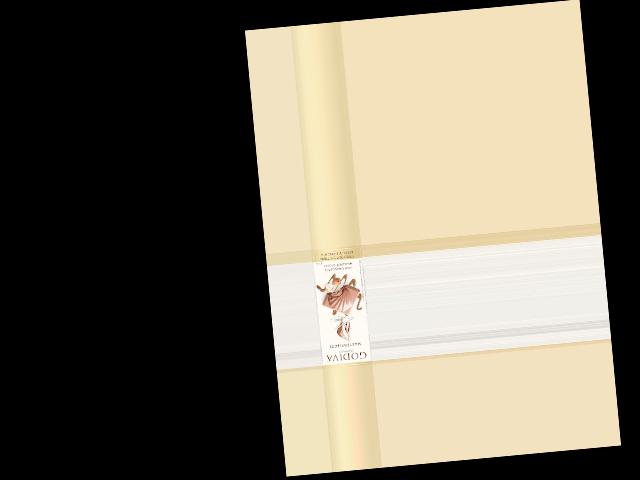chocolate: (311, 246, 371, 368)
